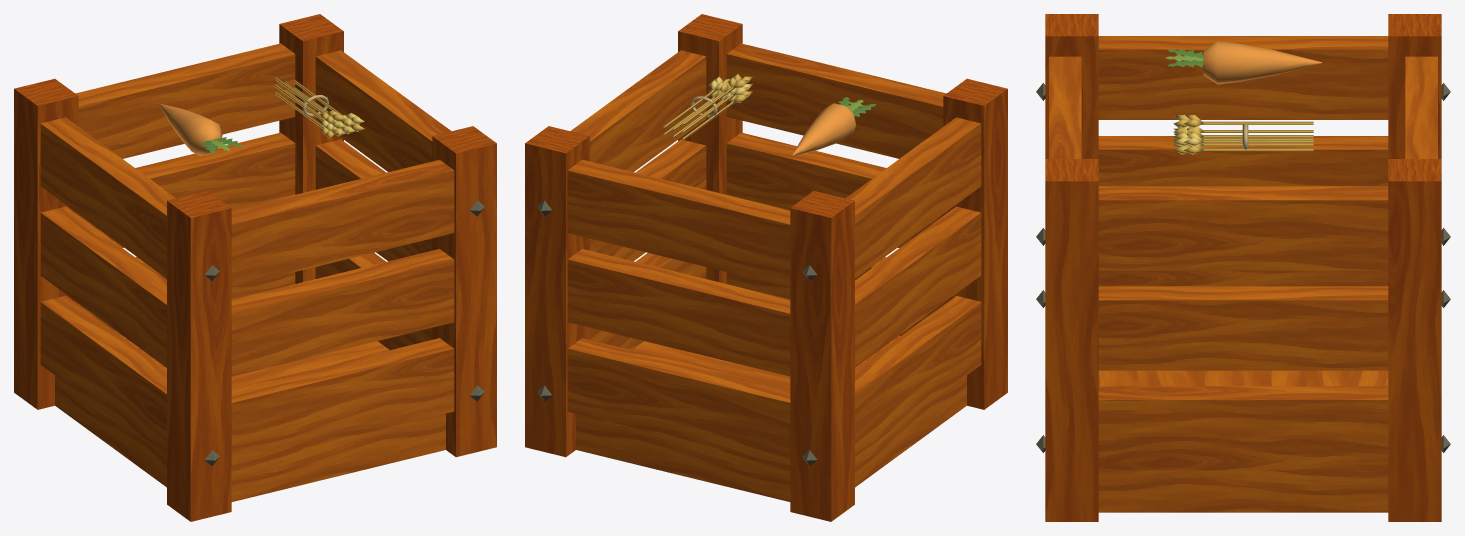
Rendered from farm-collection-box-3.gltf.
3 renders of one model, left to right at view 1: azimuth 30°, elevation 25°; view 2: azimuth 150°, elevation 25°; view 3: azimuth 270°, elevation 25°, orthographic. The views are drawn at different scales.
Parts seen in each view (by area): view 1: farm-collection-box-3; view 2: farm-collection-box-3; view 3: farm-collection-box-3.
Boxes of the visible parts, x1,y1,x2,y2 form: farm-collection-box-3: (14, 14, 496, 521); farm-collection-box-3: (525, 14, 1007, 521); farm-collection-box-3: (1036, 14, 1450, 521).
Size of the model in its own units: 0.8002 by 0.8041 by 0.8382.
Materials: 2 (1 with a texture image).
